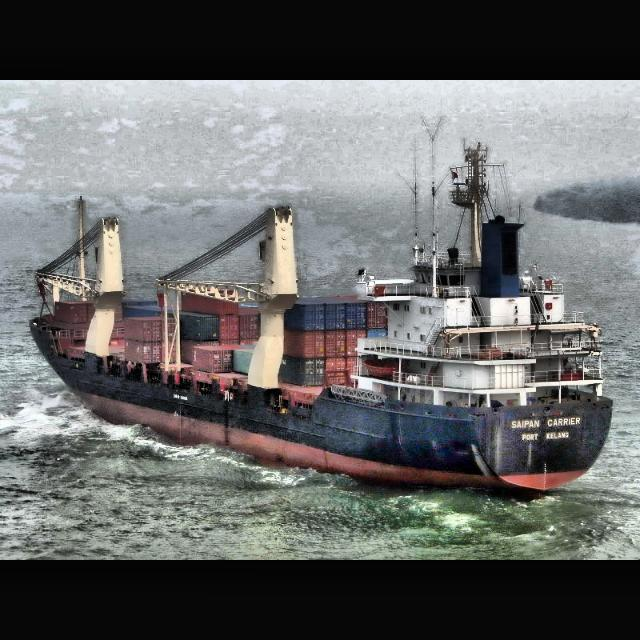container: (30, 141, 614, 497)
